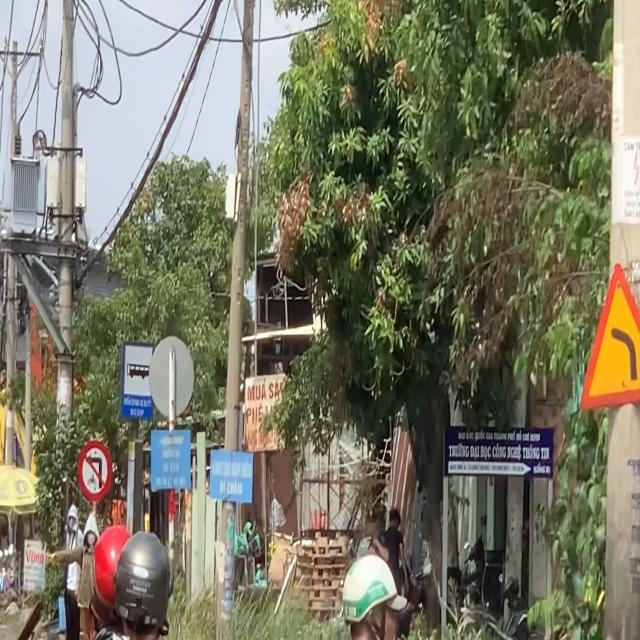bien_cam: (119, 339, 154, 420)
